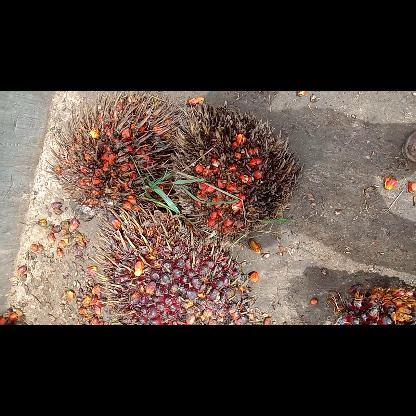TBS masak: (90, 200, 260, 324)
Terlalu masak: (170, 102, 302, 244), (44, 93, 174, 217)
